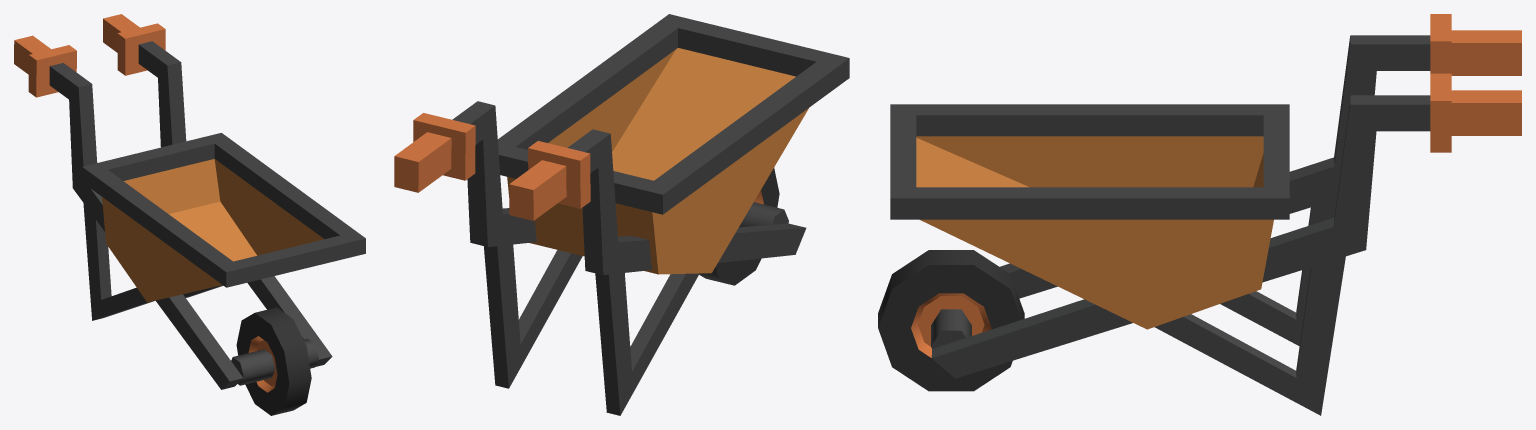
The model's file is Barrow.fbx.
3 renders of one model, left to right at view 1: azimuth 30°, elevation 25°; view 2: azimuth 150°, elevation 25°; view 3: azimuth 270°, elevation 25°, orthographic. The views are drawn at different scales.
Visible parts, largest first — view 1: Barrow; view 2: Barrow; view 3: Barrow.
Boxes of the visible parts, <box> form: Barrow: <box>14,14,365,415</box>; Barrow: <box>394,14,849,415</box>; Barrow: <box>878,14,1521,415</box>.
Size of the model in its own units: 30.28 by 48.92 by 87.47.
